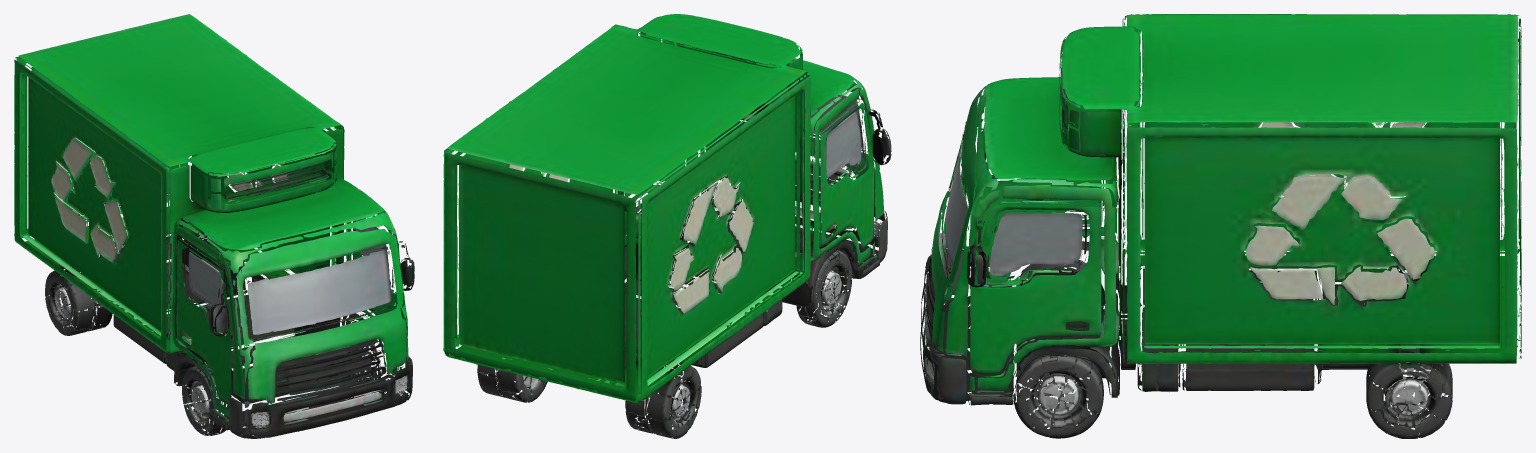
The model's file is caminhao_verde_leve.glb.
The picture shows the model from 3 angles, left to right: view 1: azimuth 30°, elevation 25°; view 2: azimuth 150°, elevation 25°; view 3: azimuth 270°, elevation 25°; orthographic projection. The views are drawn at different scales.
Visible parts, largest first — view 1: tripo_part_0, tripo_part_4, tripo_part_6, tripo_part_1; view 2: tripo_part_0, tripo_part_4, tripo_part_6, tripo_part_3; view 3: tripo_part_0, tripo_part_2, tripo_part_3.
Part boxes in pixels (x1,y1,x2,y2): tripo_part_0: (14,14,414,438); tripo_part_4: (45,266,112,335); tripo_part_6: (182,364,229,435); tripo_part_1: (251,375,408,428); tripo_part_0: (443,14,891,403); tripo_part_4: (625,361,701,438); tripo_part_6: (796,247,852,327); tripo_part_3: (477,364,547,402); tripo_part_0: (920,14,1521,405); tripo_part_2: (1013,348,1103,438); tripo_part_3: (1366,344,1452,438).
Size of the model in its own units: 0.4934 by 0.5801 by 0.9808.
6 materials, 6 textured.
